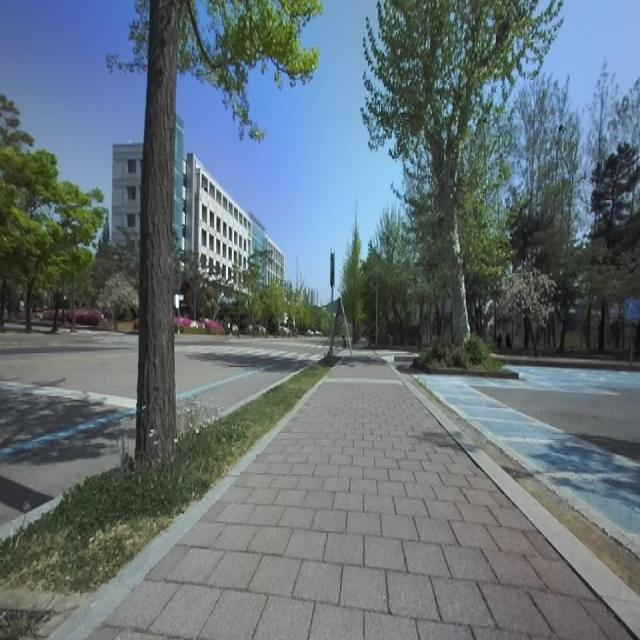sidewalk: (92, 355, 630, 639), (49, 379, 325, 640), (402, 375, 640, 639)
